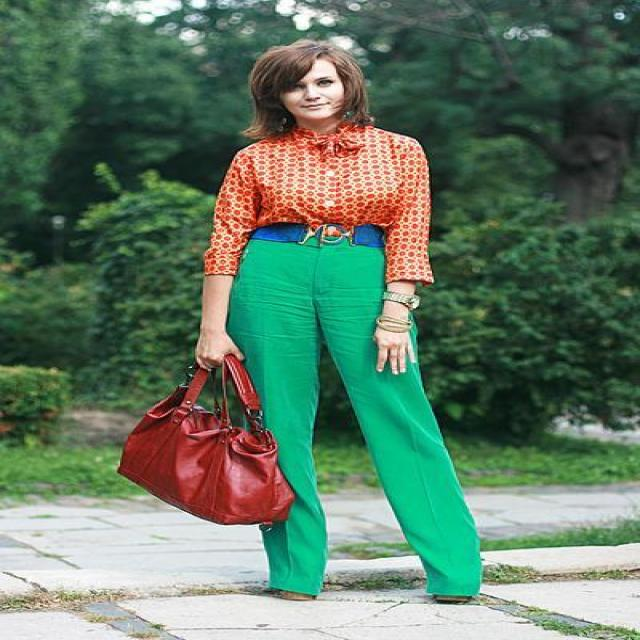bag: (117, 352, 294, 524)
pants: (226, 240, 491, 599)
shirt: (204, 126, 430, 285)
shoe: (403, 577, 474, 604)
